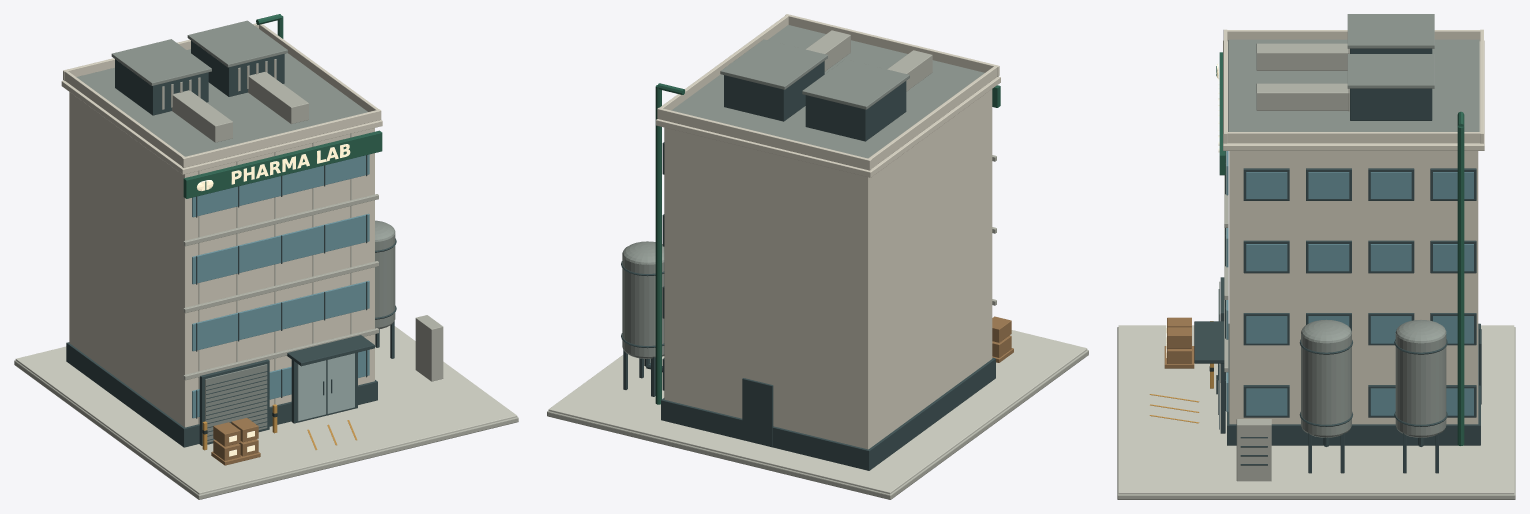
Rendered from large-4x4-pharma-05.glb.
3 renders of one model, left to right at view 1: azimuth 30°, elevation 25°; view 2: azimuth 150°, elevation 25°; view 3: azimuth 270°, elevation 25°, orthographic. The views are drawn at different scales.
Parts seen in each view (by area): view 1: PharmaProduction, ConcreteYard, RoofDeck, FrontWindowBand.001, FrontWindowBand.002, Plinth, BrandBand, FrontWindowBand.003, LoadingDoor, StaffDoors, Lot_4x4, AirUnitTop.001 (+20 smaller); view 2: PharmaProduction, ConcreteYard, RoofDeck, Plinth, Lot_4x4, AirHandlingUnit, SealedUtilityTank.001, AirUnitTop.001, AirUnitTop, AirHandlingUnit.001, RoofCap, Parapet.001 (+8 smaller); view 3: PharmaProduction, ConcreteYard, RoofDeck, SealedUtilityTank.001, SealedUtilityTank, Plinth, AirUnitTop, AirUnitTop.001, Lot_4x4, Parapet.003, AirHandlingUnit.001, RoofAirDuct.001 (+35 smaller).
Boxes of the visible parts, x1,y1,x2,y2 form: PharmaProduction: (69,92,374,427); ConcreteYard: (15,325,517,494); RoofDeck: (76,49,367,156); FrontWindowBand.001: (192,280,369,351); FrontWindowBand.002: (192,213,369,284); Plinth: (66,342,377,447); BrandBand: (183,130,382,198); FrontWindowBand.003: (192,154,369,217); LoadingDoor: (205,364,267,442); StaffDoors: (297,353,354,421); Lot_4x4: (14,360,518,499); AirUnitTop.001: (187,20,287,67); PharmaProduction: (664,89,992,449); ConcreteYard: (548,330,1087,494); RoofDeck: (671,25,984,158); Plinth: (661,357,995,470); Lot_4x4: (547,350,1088,499); AirHandlingUnit: (805,81,906,141); SealedUtilityTank.001: (622,252,664,356); AirUnitTop.001: (720,39,827,89); AirUnitTop: (802,59,909,109); AirHandlingUnit.001: (724,61,824,121); RoofCap: (656,76,1000,177); Parapet.001: (657,107,871,170); PharmaProduction: (1229,151,1478,424); ConcreteYard: (1118,325,1514,494); RoofDeck: (1228,39,1479,131); SealedUtilityTank.001: (1395,331,1446,435); SealedUtilityTank: (1301,333,1351,435); Plinth: (1227,323,1480,445); AirUnitTop: (1347,14,1434,48); AirUnitTop.001: (1347,54,1434,88); Lot_4x4: (1117,327,1515,499); Parapet.003: (1226,132,1480,143); AirHandlingUnit.001: (1350,88,1432,120); RoofAirDuct.001: (1256,83,1349,110).
Bounding box in the file's own units: 16 × 15.5 × 16.
